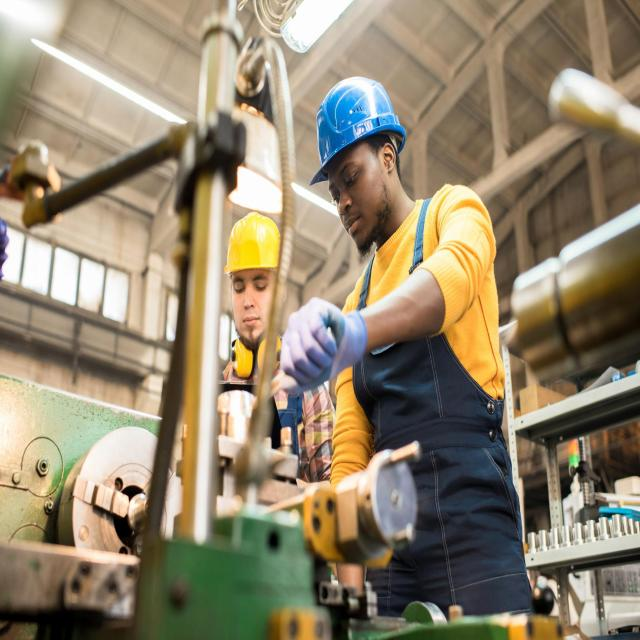Safety-Helmet: (306, 68, 408, 185), (223, 211, 283, 275)
